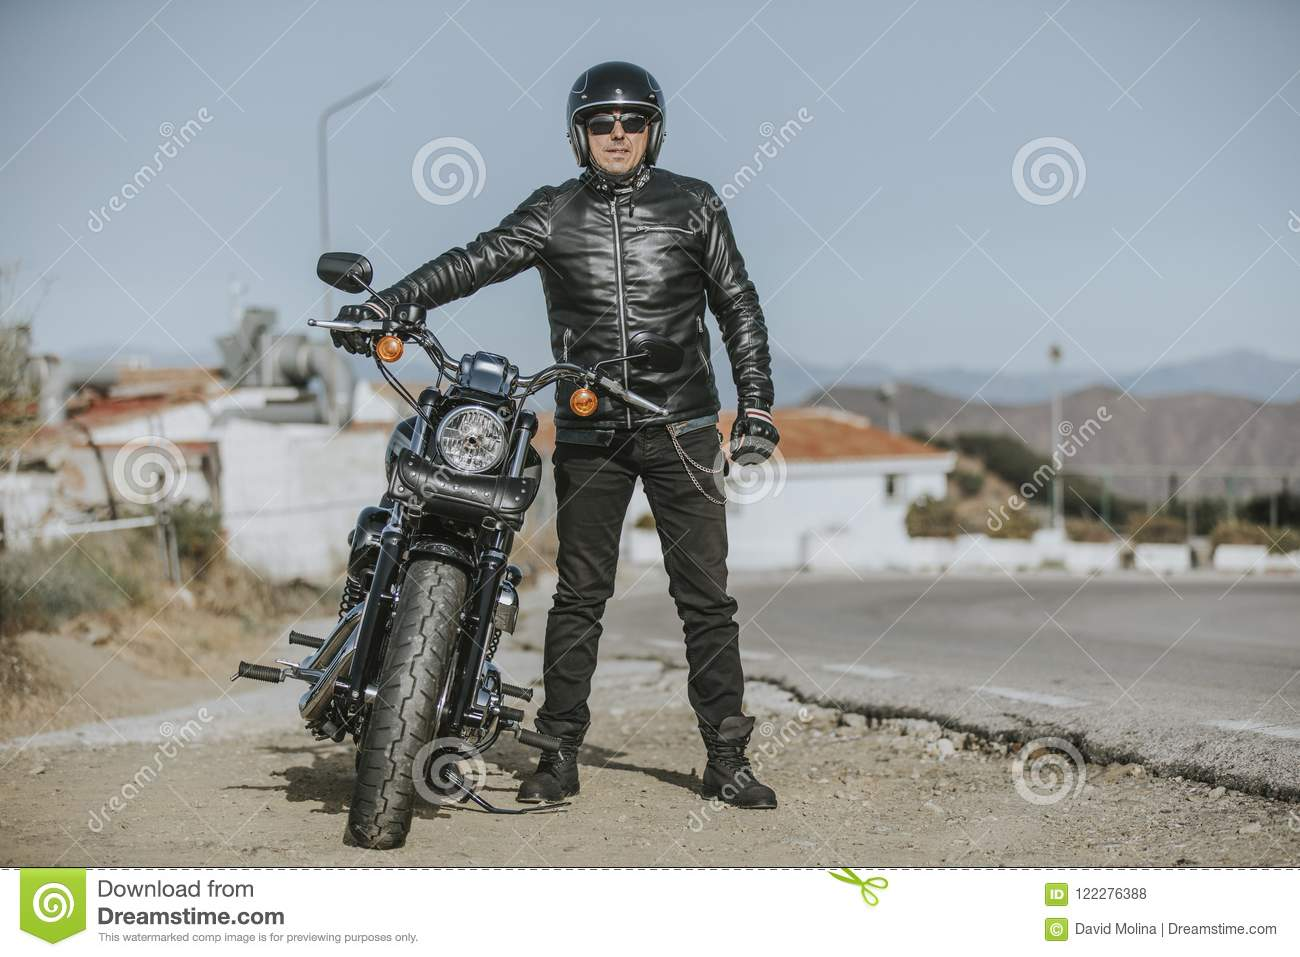helmet: (555, 63, 677, 176)
